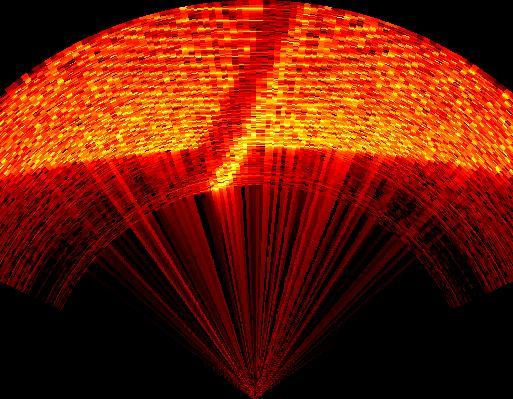pipe: (184, 2, 306, 181)
